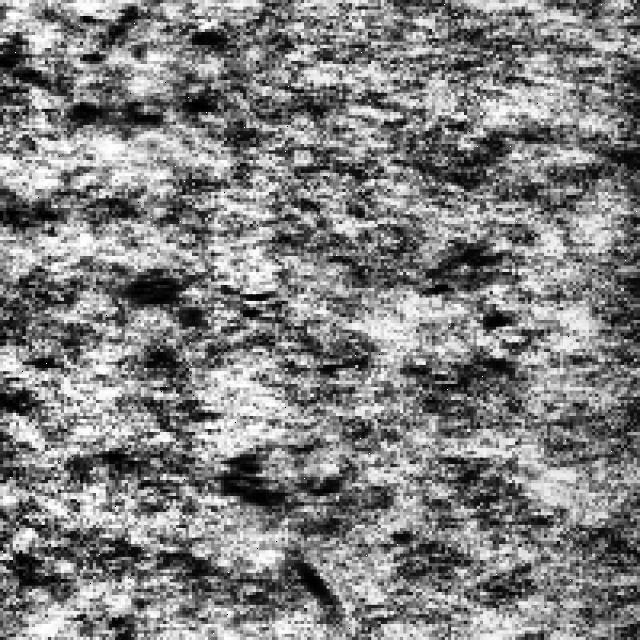Crazing: (28, 3, 234, 115), (413, 234, 528, 390), (224, 426, 355, 518)
